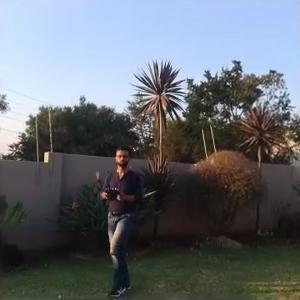follow: (89, 141, 147, 297)
